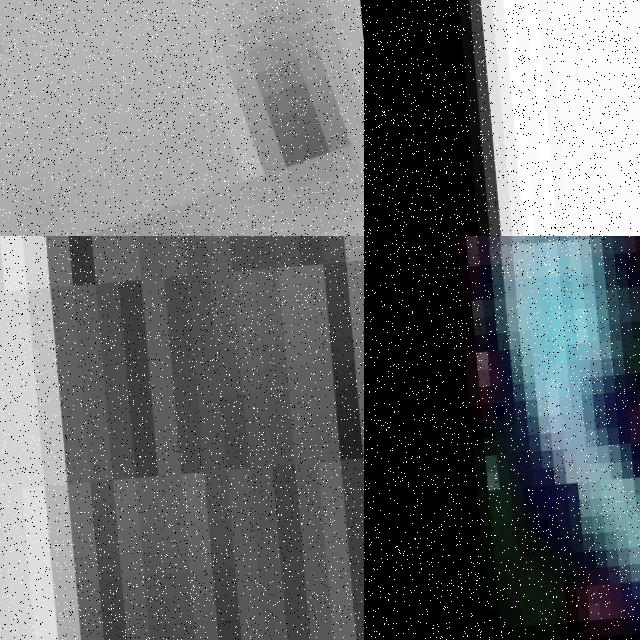drone: (0, 0, 364, 236)
